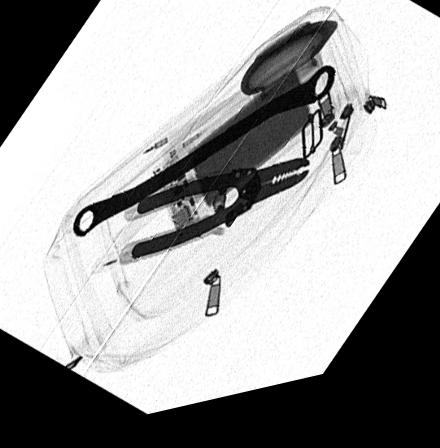Pliers: (124, 169, 311, 265)
Powerbank: (154, 75, 315, 247)
Wrench: (70, 81, 333, 241)
